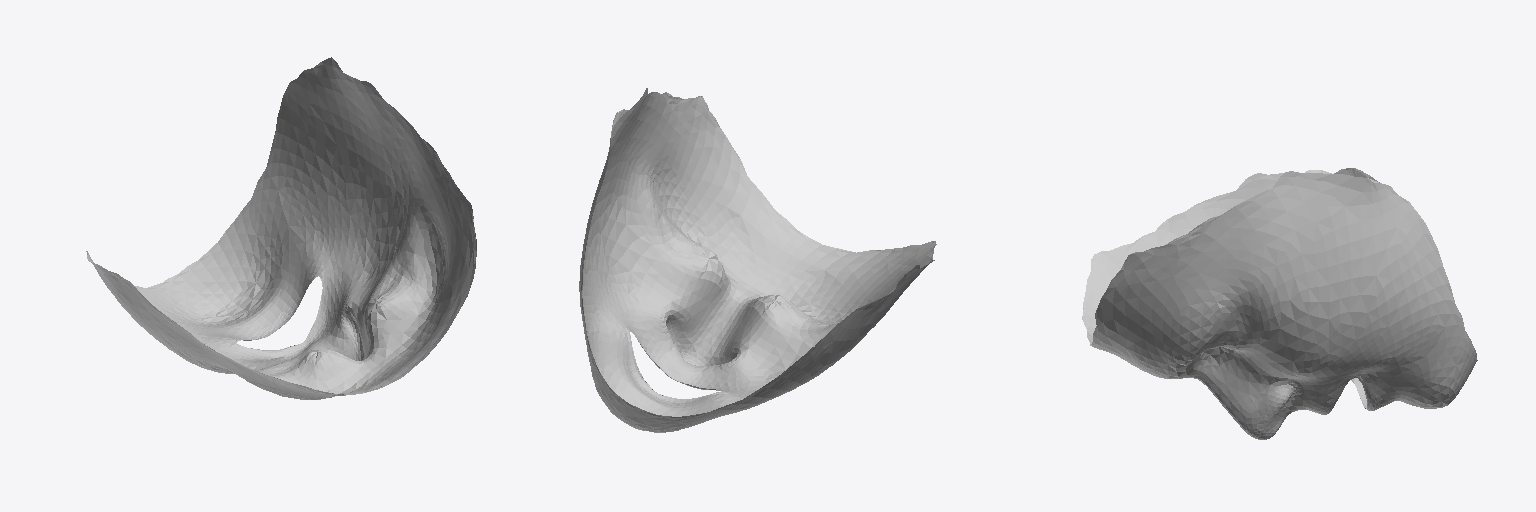
The model's file is face_gab_sfm48.obj.
3 renders of one model, left to right at view 1: azimuth 30°, elevation 25°; view 2: azimuth 150°, elevation 25°; view 3: azimuth 270°, elevation 25°, orthographic.
Bounding box in the file's own units: 166 × 155 × 194.